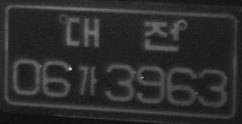0: (11, 58, 42, 97)
3: (104, 62, 135, 103), (198, 68, 228, 109)
6: (166, 65, 197, 106), (42, 60, 72, 98)
9: (136, 64, 166, 105)
가: (76, 64, 98, 96)
대전_D: (62, 15, 181, 53)
